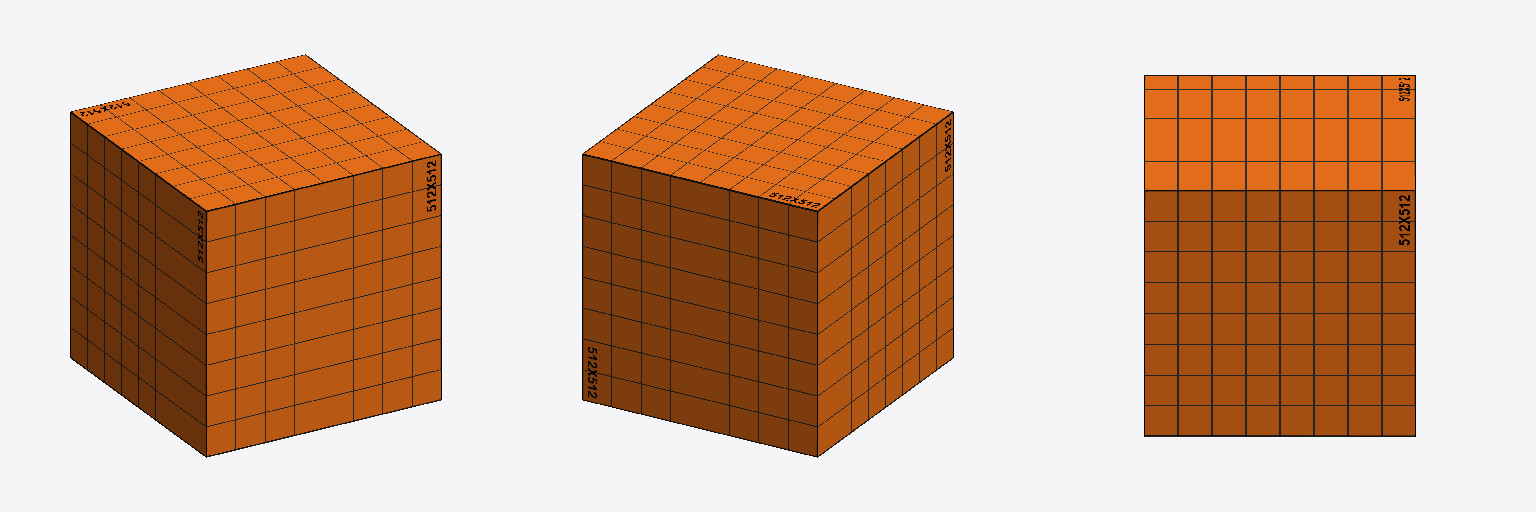
3 renders of one model, left to right at view 1: azimuth 30°, elevation 25°; view 2: azimuth 150°, elevation 25°; view 3: azimuth 270°, elevation 25°, orthographic.
Visible parts, largest first — view 1: Cube; view 2: Cube; view 3: Cube.
Part boxes in pixels (x1,y1,x2,y2): Cube: (70,54,441,457); Cube: (582,54,953,457); Cube: (1144,75,1415,436).
Size of the model in its own units: 2 by 2 by 2.
1 materials, 1 textured.